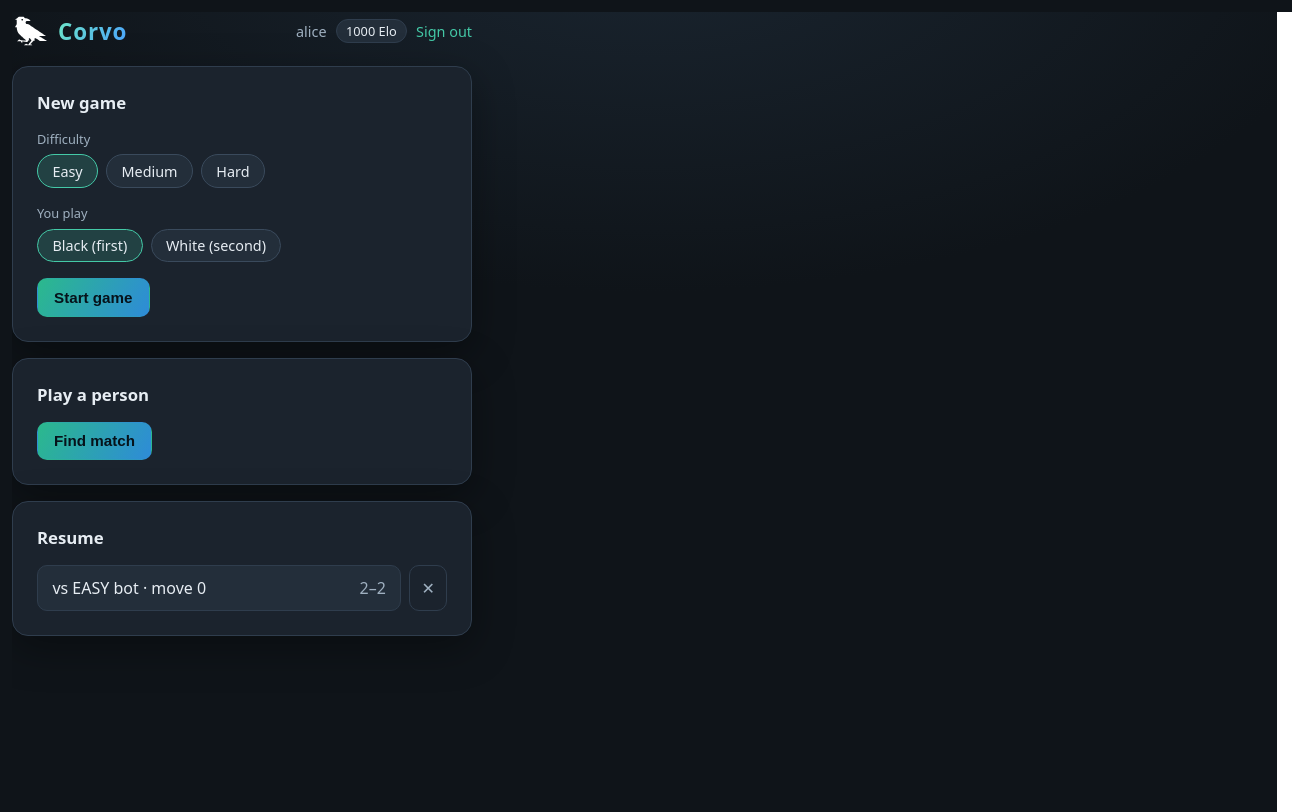
Scenario: Lobby Resume, delete › deletes a single-player game after confirmation and removes its row
Click the button named "delete match".
click(428, 588)  # box top-left (409, 565), bottom-right (447, 611)
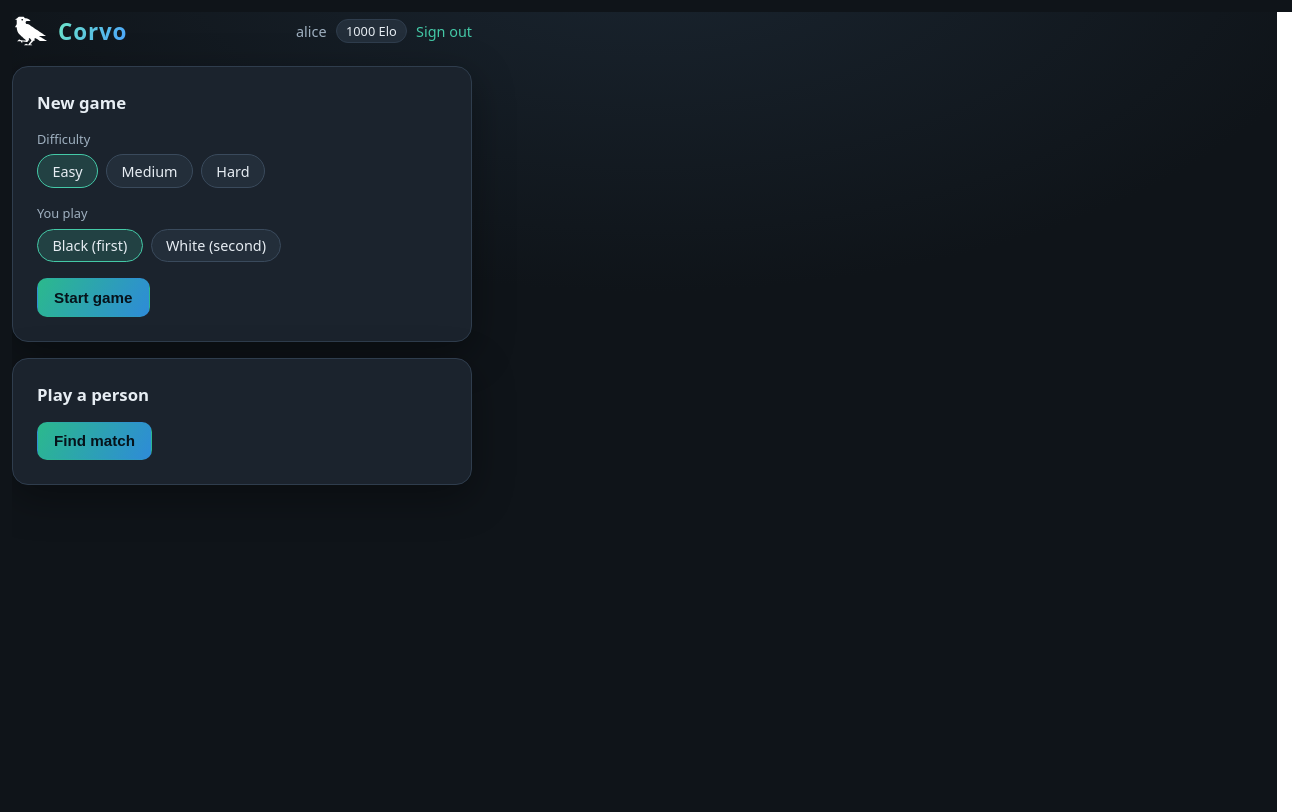
Now the heading "Resume" is gone
